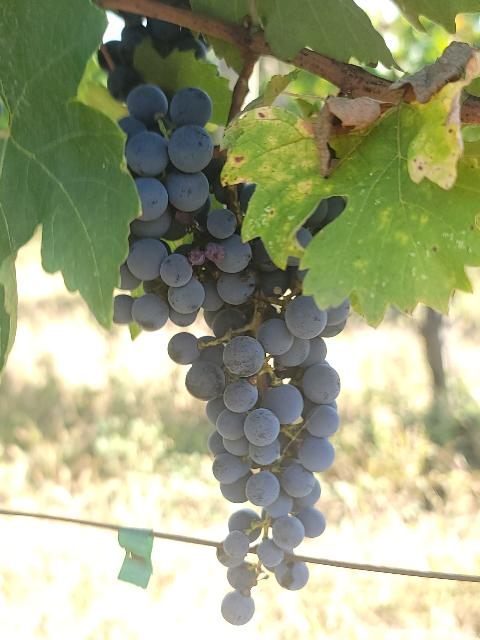grapes: (169, 236, 350, 624), (112, 84, 243, 338)
